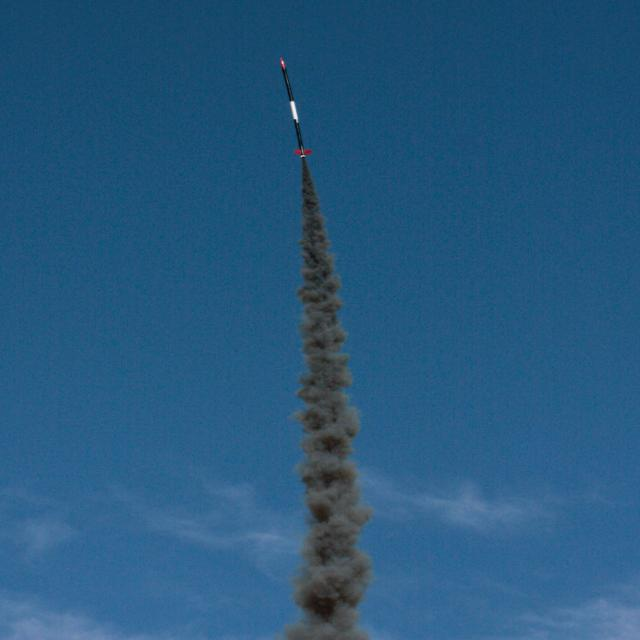Rocket: (278, 56, 312, 158)
